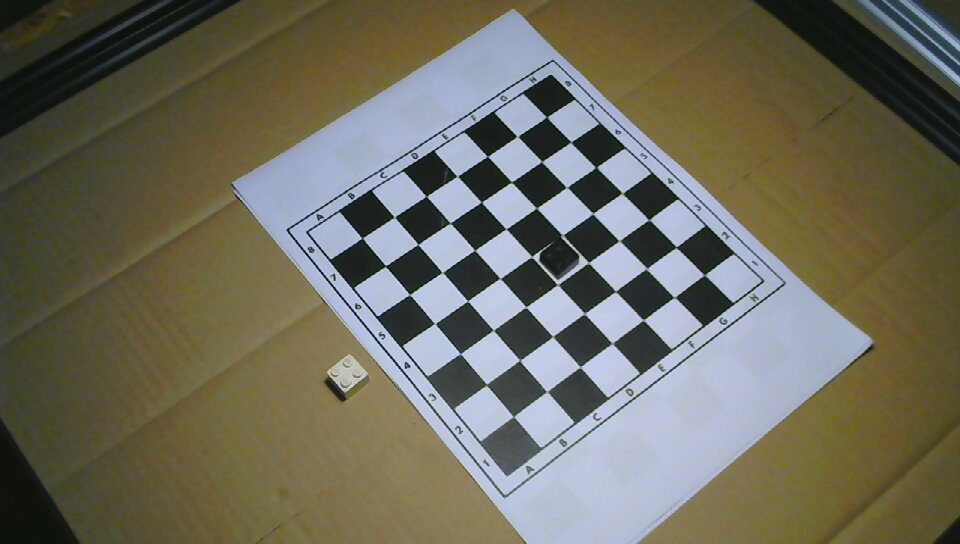bp: (539, 238, 581, 280)
wp: (326, 353, 370, 400)
